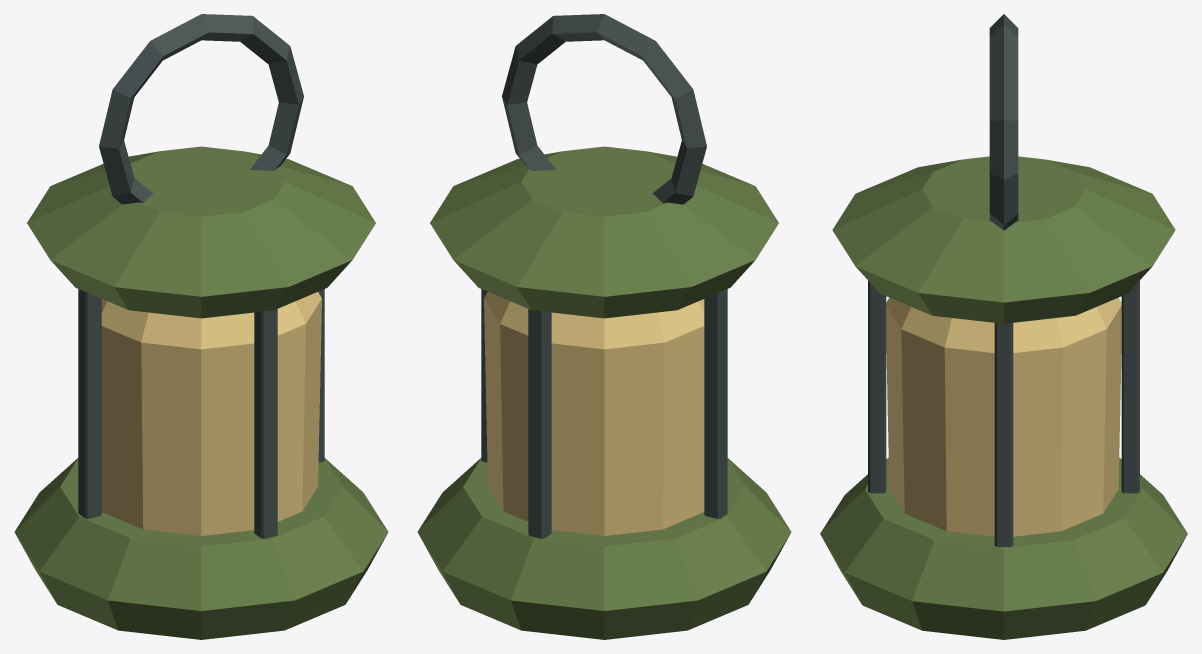
File: 09_Camp_Lantern.glb
3 renders of one model, left to right at view 1: azimuth 30°, elevation 25°; view 2: azimuth 150°, elevation 25°; view 3: azimuth 270°, elevation 25°, orthographic.
Visible parts, largest first — view 1: 09_Camp_Lantern__Body; view 2: 09_Camp_Lantern__Body; view 3: 09_Camp_Lantern__Body.
Part boxes in pixels (x1,y1,x2,y2): 09_Camp_Lantern__Body: (14, 14, 388, 639); 09_Camp_Lantern__Body: (417, 14, 791, 639); 09_Camp_Lantern__Body: (820, 14, 1187, 639).
Size of the model in its own units: 0.9 by 1.48 by 0.9.
1 material, 1 textured.
